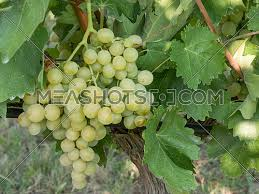grapes: (15, 63, 110, 186), (84, 29, 154, 129)
